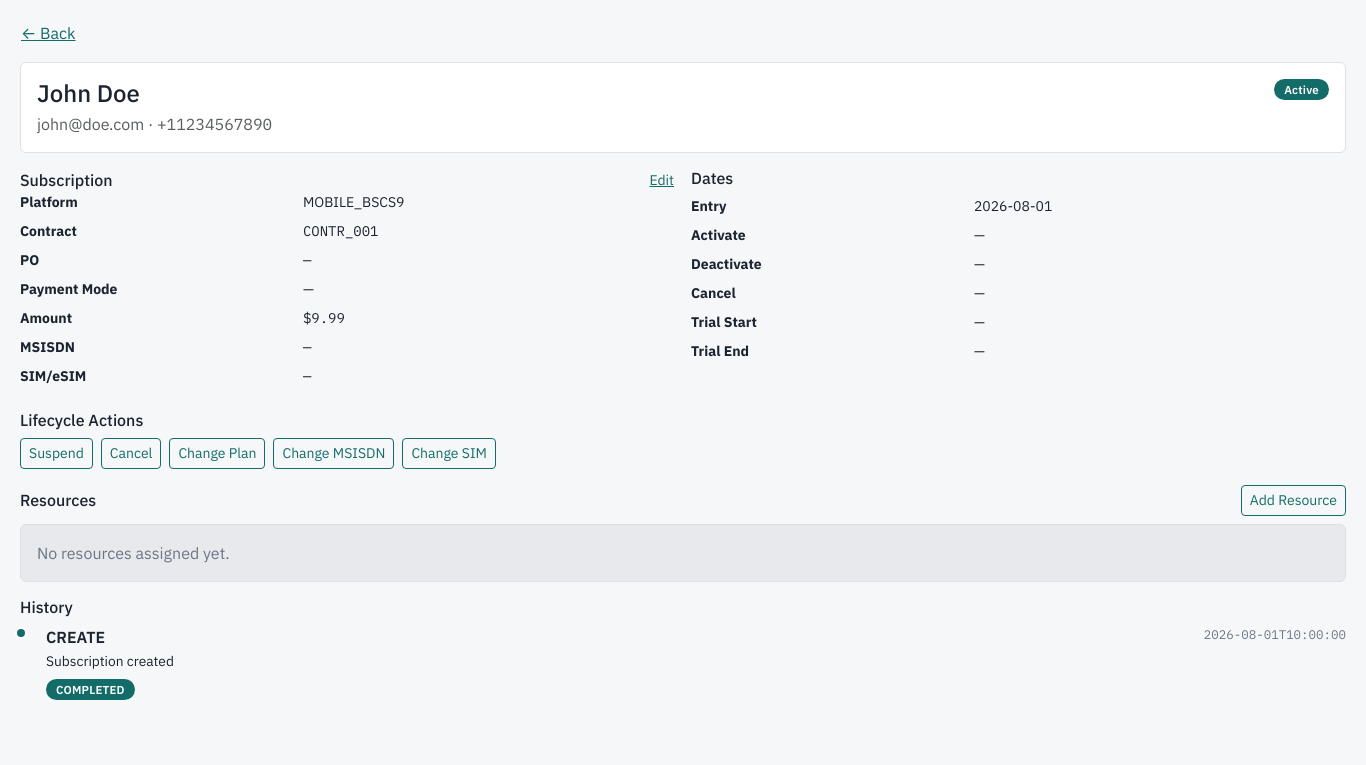
Test: assigning a resource refreshes the resources list
Check: the heading "John Doe" is shown, box [37, 77, 140, 109]
Check: the text "No resources assigned yet." is shown, box [20, 524, 1346, 582]
Click the button "Add Resource" at (1293, 500), box [1241, 485, 1346, 516]
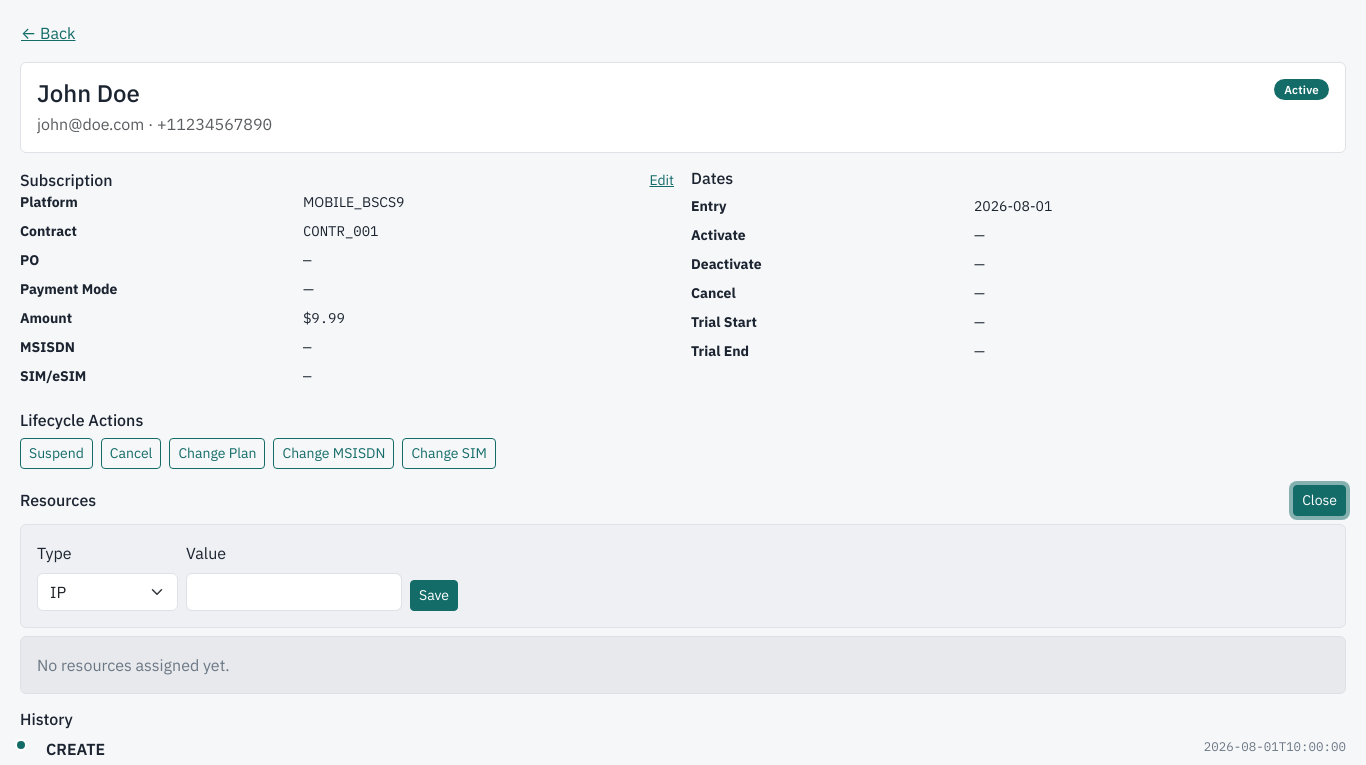
Type "10.0.0.1" into the field labelled "Value" at (294, 592), box [186, 573, 402, 611]
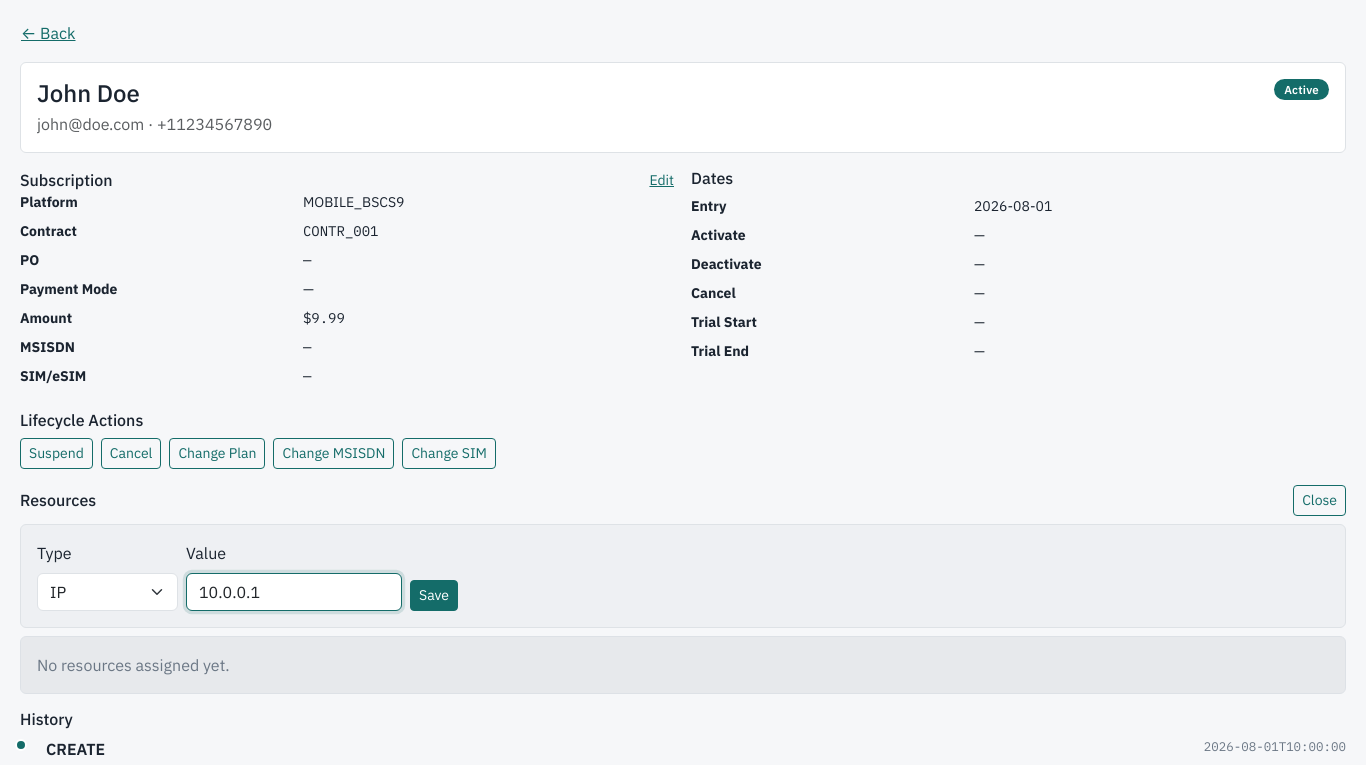
Click the button "Save" at (434, 596), box [410, 580, 458, 611]
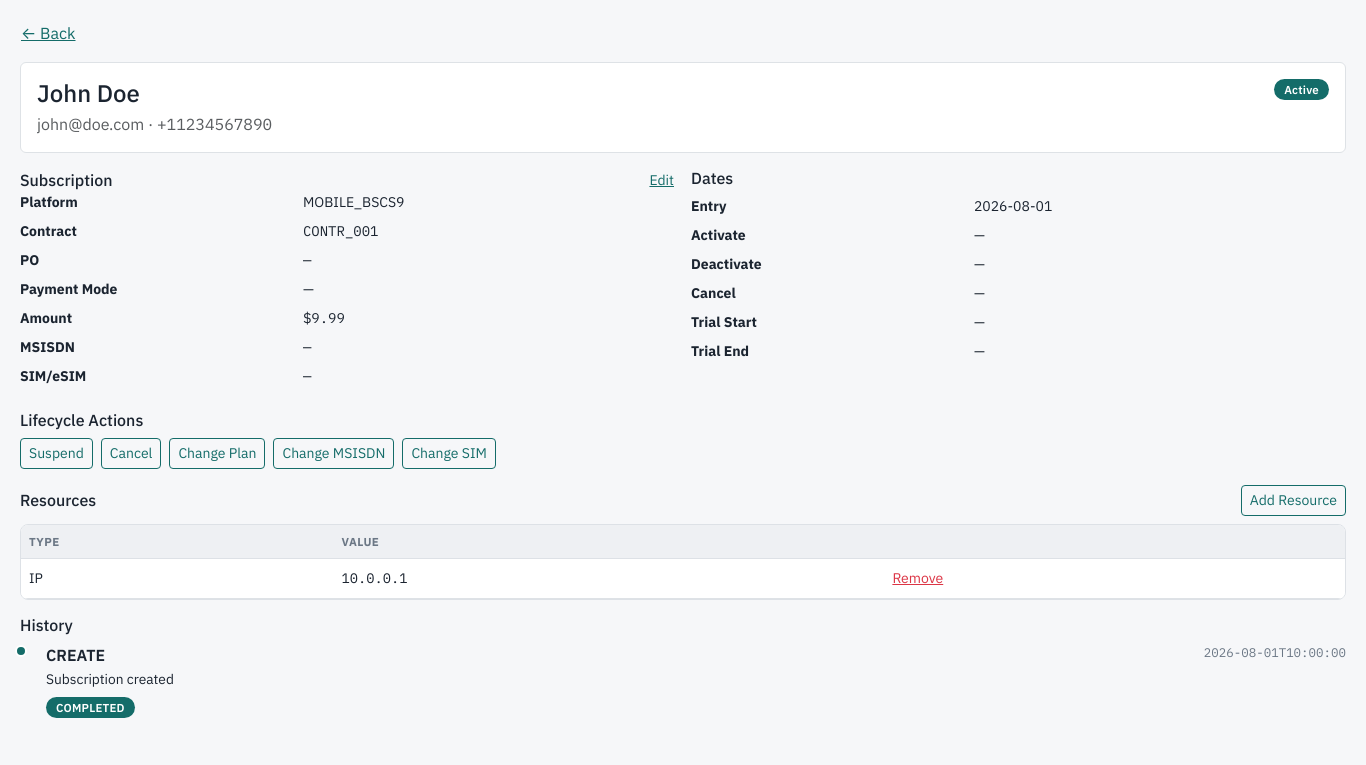
Check: the text "10.0.0.1" is shown, box [334, 559, 883, 599]
